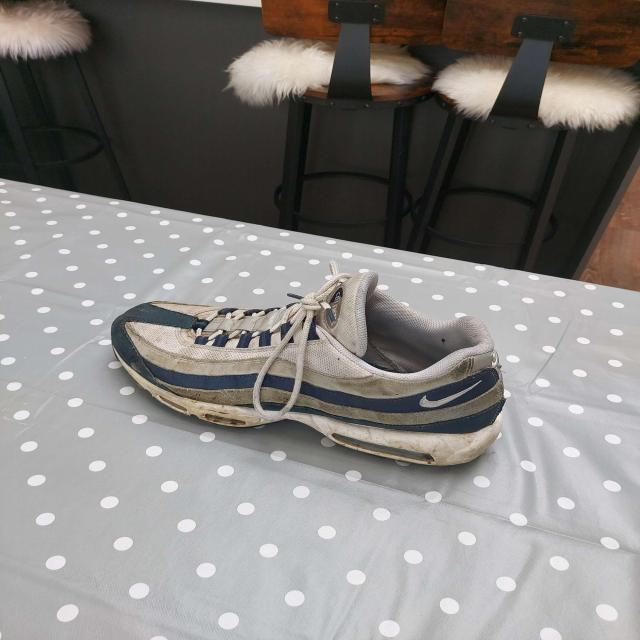shoes: (109, 270, 508, 470)
